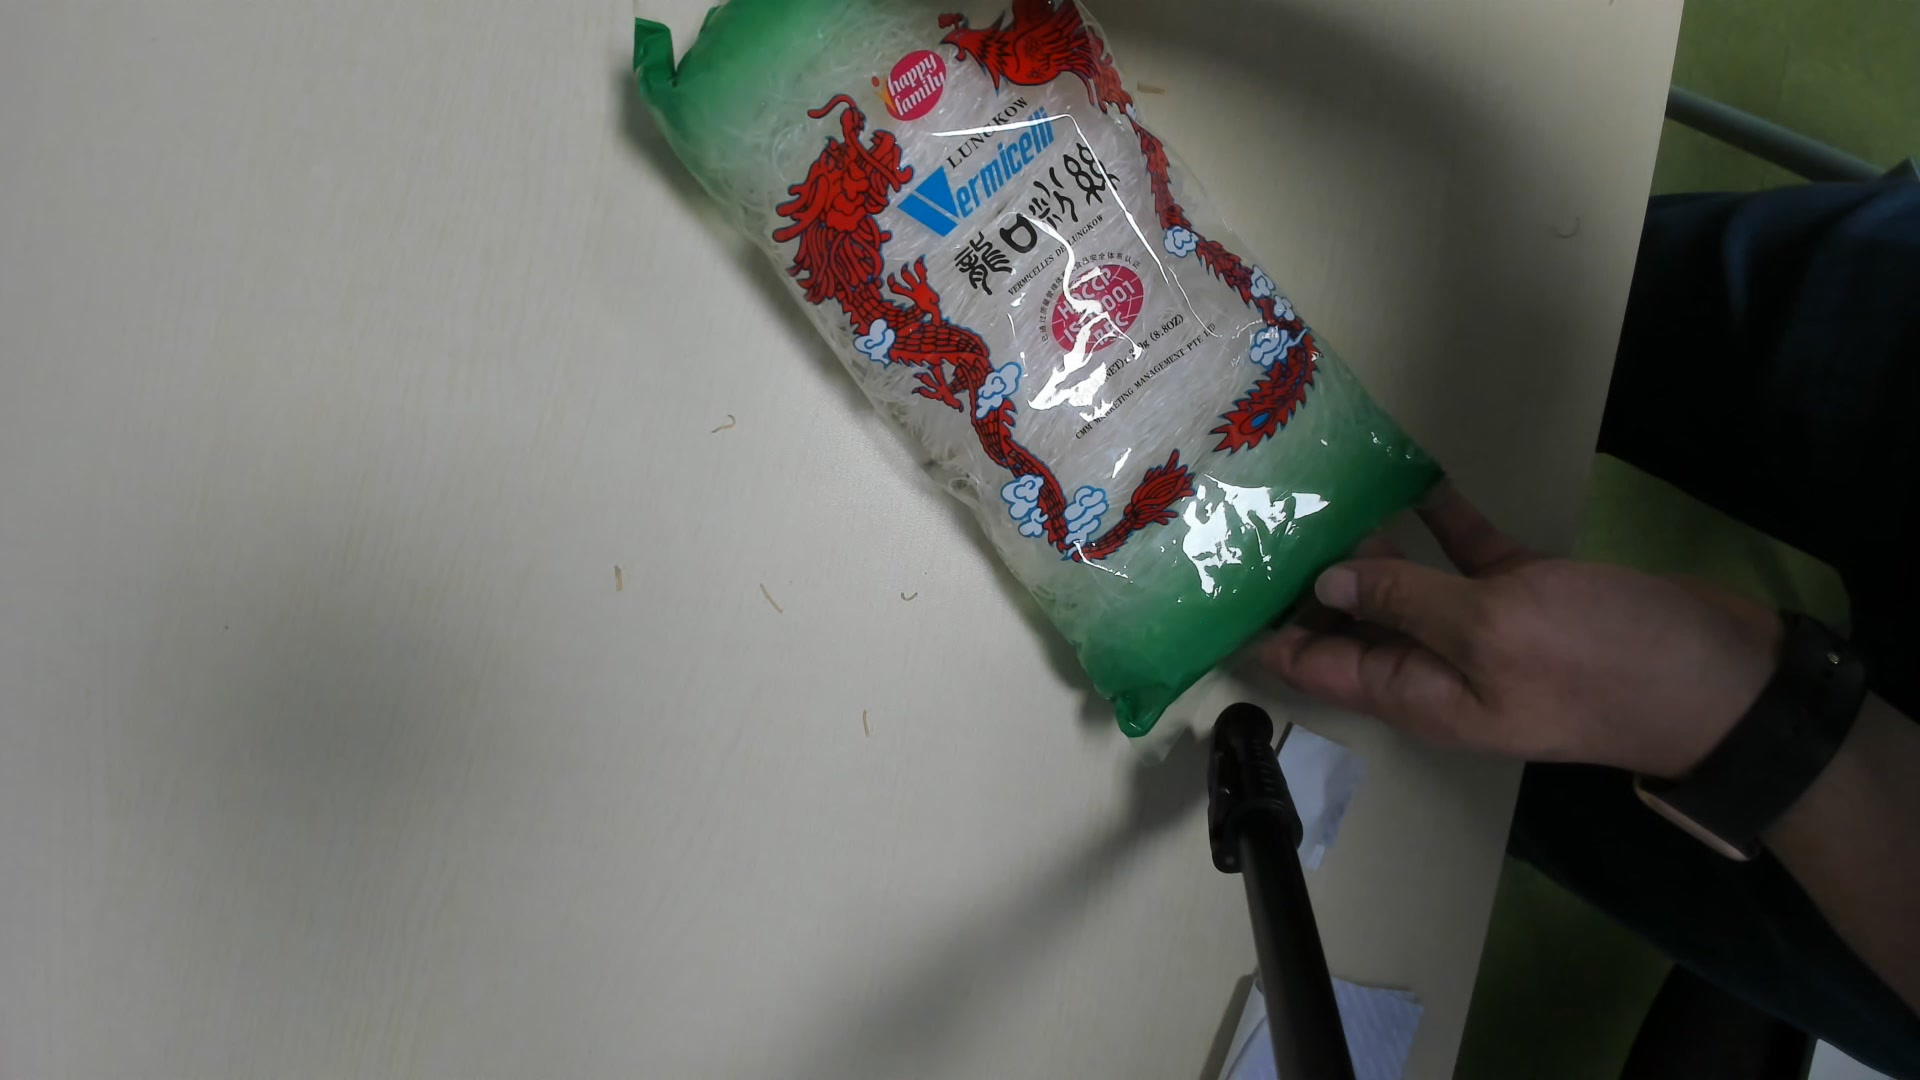BeeHoonVermicelli_200-299g_Halal_NonHealthy: (624, 7, 1431, 754)
